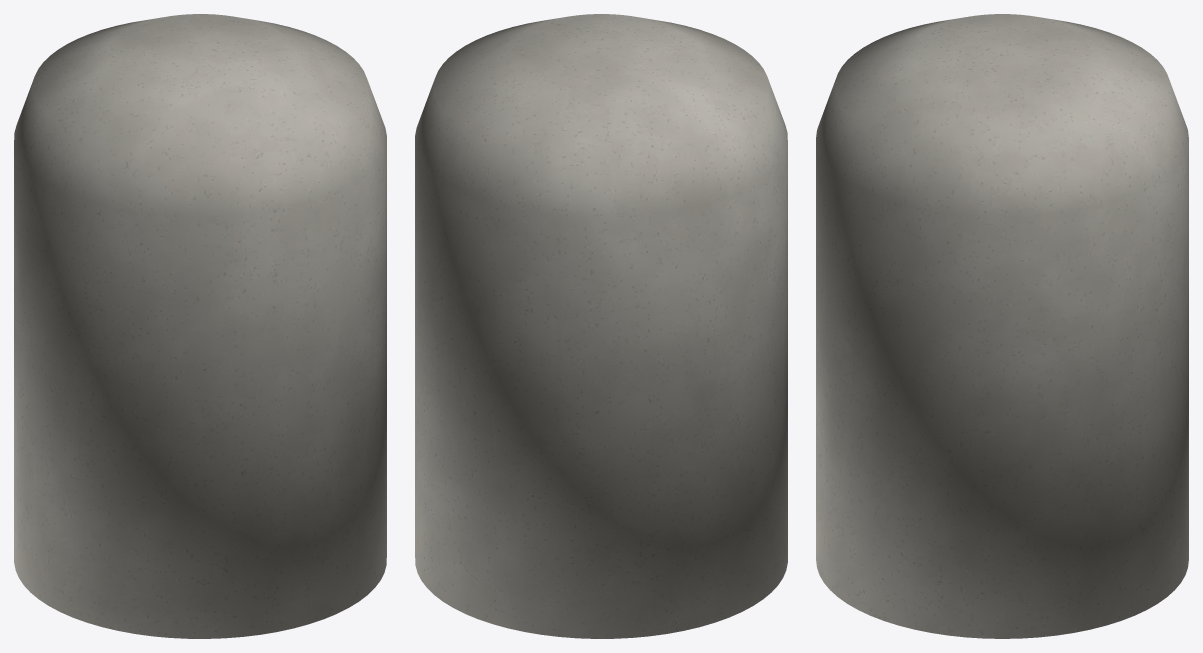
The model's file is concrete-dome.glb.
The picture shows the model from 3 angles, left to right: view 1: azimuth 30°, elevation 25°; view 2: azimuth 150°, elevation 25°; view 3: azimuth 270°, elevation 25°; orthographic projection.
Visible parts, largest first — view 1: concrete; view 2: concrete; view 3: concrete.
Part boxes in pixels (left/top/right/bottom): concrete: left=14, top=14, right=386, bottom=638; concrete: left=415, top=14, right=787, bottom=638; concrete: left=816, top=14, right=1188, bottom=638.
Size of the model in its own units: 0.4 by 0.61 by 0.4.
1 material, 1 textured.
